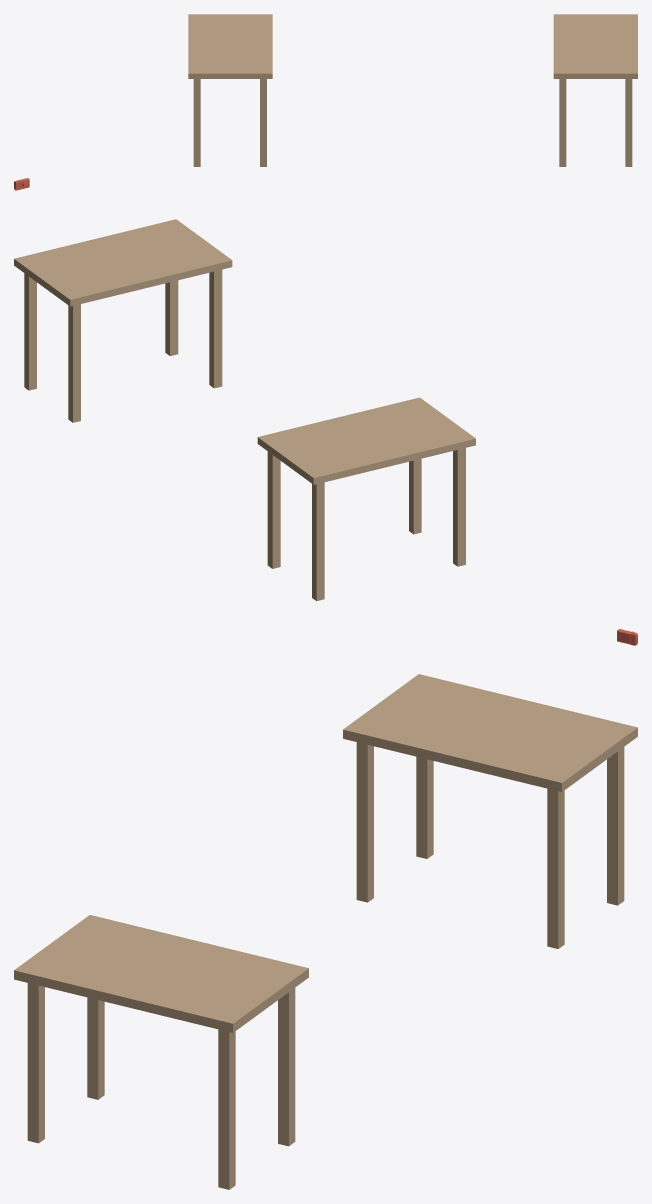
Rendered from hum_01_pickplace_props.glb.
The picture shows the model from 3 angles, top to bottom: view 1: azimuth 30°, elevation 25°; view 2: azimuth 150°, elevation 25°; view 3: azimuth 270°, elevation 25°; orthographic projection. The views are drawn at different scales.
Parts seen in each view (by area): view 1: s_box_00, s_box_05, s_box_01, s_box_06, s_box_08, s_box_03; view 2: s_box_05, s_box_00, s_box_06, s_box_04, s_box_02, s_box_07, s_box_01, s_box_09, s_box_08, s_box_03; view 3: s_box_00, s_box_05, s_box_09, s_box_04, s_box_08, s_box_03, s_box_02, s_box_07, s_box_06, s_box_01.
Boxes of the visible parts, box(x1,y1,x2,y2) form: s_box_00: box(188, 14, 272, 78); s_box_05: box(553, 14, 637, 78); s_box_01: box(193, 79, 200, 166); s_box_06: box(559, 79, 566, 166); s_box_08: box(625, 79, 632, 166); s_box_03: box(260, 79, 266, 166); s_box_05: box(14, 219, 232, 306); s_box_00: box(257, 397, 475, 484); s_box_06: box(209, 269, 222, 388); s_box_04: box(267, 451, 280, 568); s_box_02: box(312, 482, 324, 601); s_box_07: box(68, 304, 80, 422); s_box_01: box(453, 448, 465, 566); s_box_09: box(24, 273, 36, 390); s_box_08: box(165, 280, 178, 355); s_box_03: box(409, 458, 421, 534); s_box_00: box(343, 674, 637, 791); s_box_05: box(14, 915, 308, 1032); s_box_09: box(218, 1029, 235, 1189); s_box_04: box(547, 788, 564, 948); s_box_08: box(27, 983, 44, 1143); s_box_03: box(356, 742, 373, 902); s_box_02: box(607, 747, 624, 905); s_box_07: box(278, 988, 295, 1146); s_box_06: box(87, 997, 104, 1099); s_box_01: box(416, 756, 433, 858).
Bounding box in the file's own units: 4.48 × 0.7838 × 2.47.
